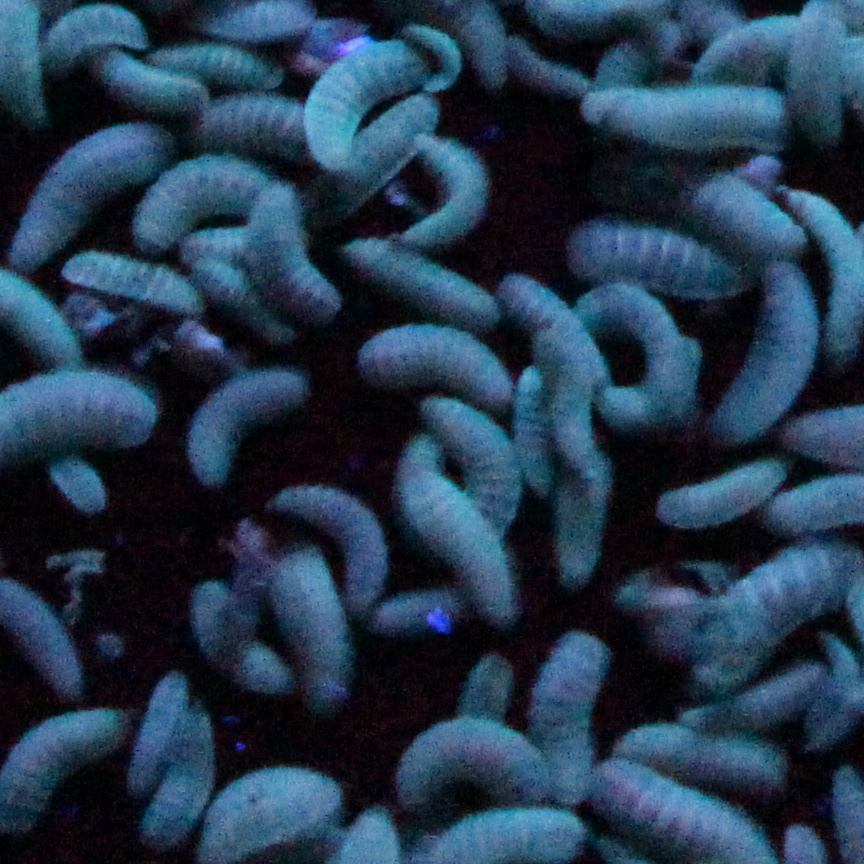larve: (16, 125, 177, 270), (397, 464, 532, 628), (580, 75, 809, 163), (711, 268, 820, 451), (573, 288, 694, 428), (266, 485, 394, 613), (244, 175, 347, 320), (344, 235, 504, 328), (394, 718, 549, 814), (192, 364, 302, 499), (609, 723, 797, 801), (308, 39, 423, 164), (571, 225, 754, 302), (271, 540, 349, 711), (139, 158, 270, 256), (358, 328, 518, 408), (501, 268, 605, 387), (539, 633, 611, 804), (147, 706, 216, 854), (651, 456, 785, 532), (409, 133, 490, 247), (59, 261, 209, 316), (101, 47, 211, 118), (39, 6, 159, 56), (152, 45, 292, 87)
